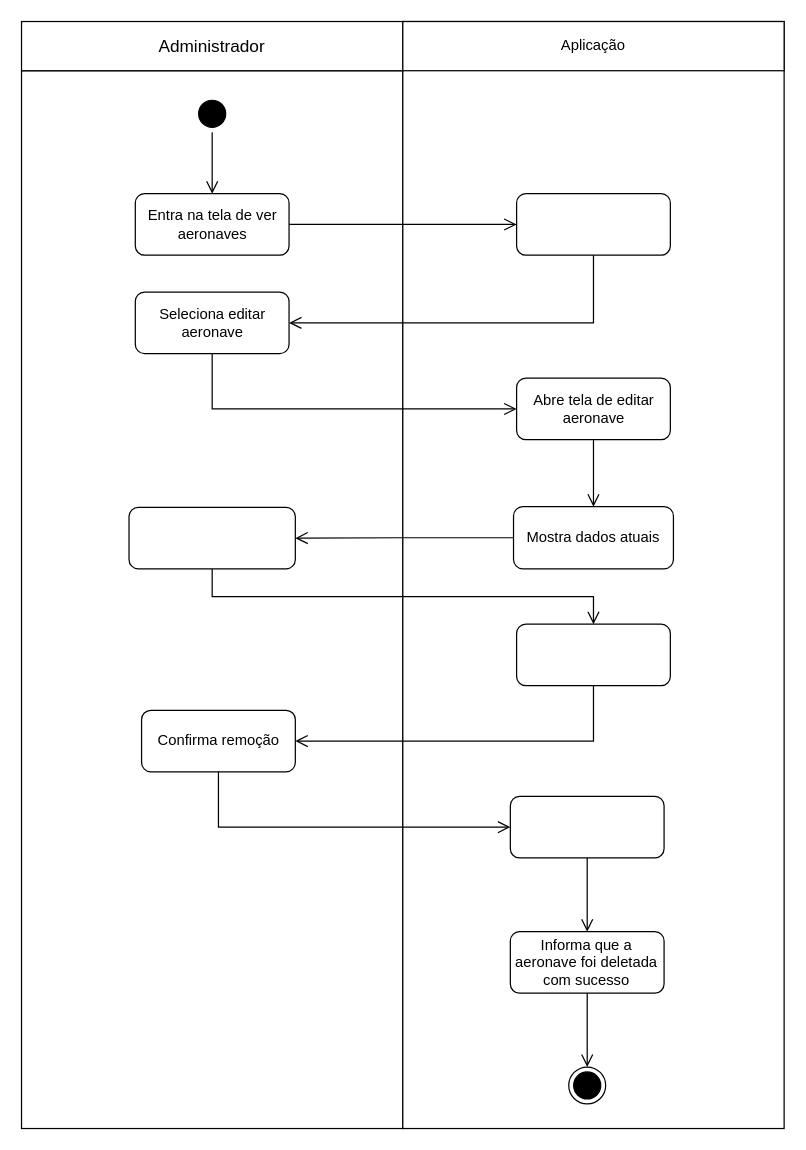
This 806x1150 diagram has some shape labels left out. The box of each missing label's shape, as (x1, y1, x2, y2) in pixels:
Deleta aeronave: (509, 795, 664, 858)
Mostra aeronaves: (515, 192, 670, 255)
Pergunta se tem certeza: (515, 623, 670, 686)
Seleciona deletar aeronave: (128, 506, 295, 569)
